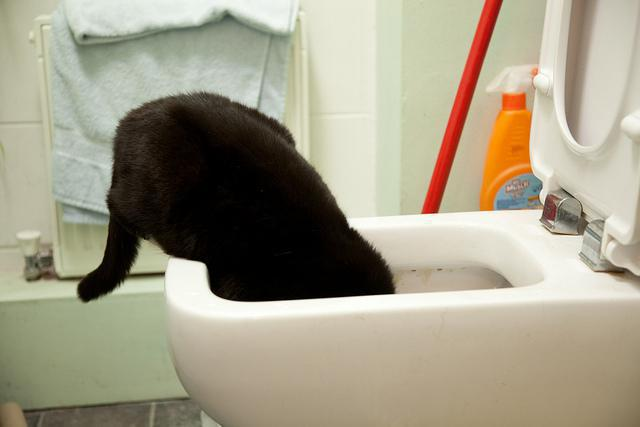Otro Obstaculo: (76, 86, 409, 329)
Sanitario: (167, 11, 638, 424)
